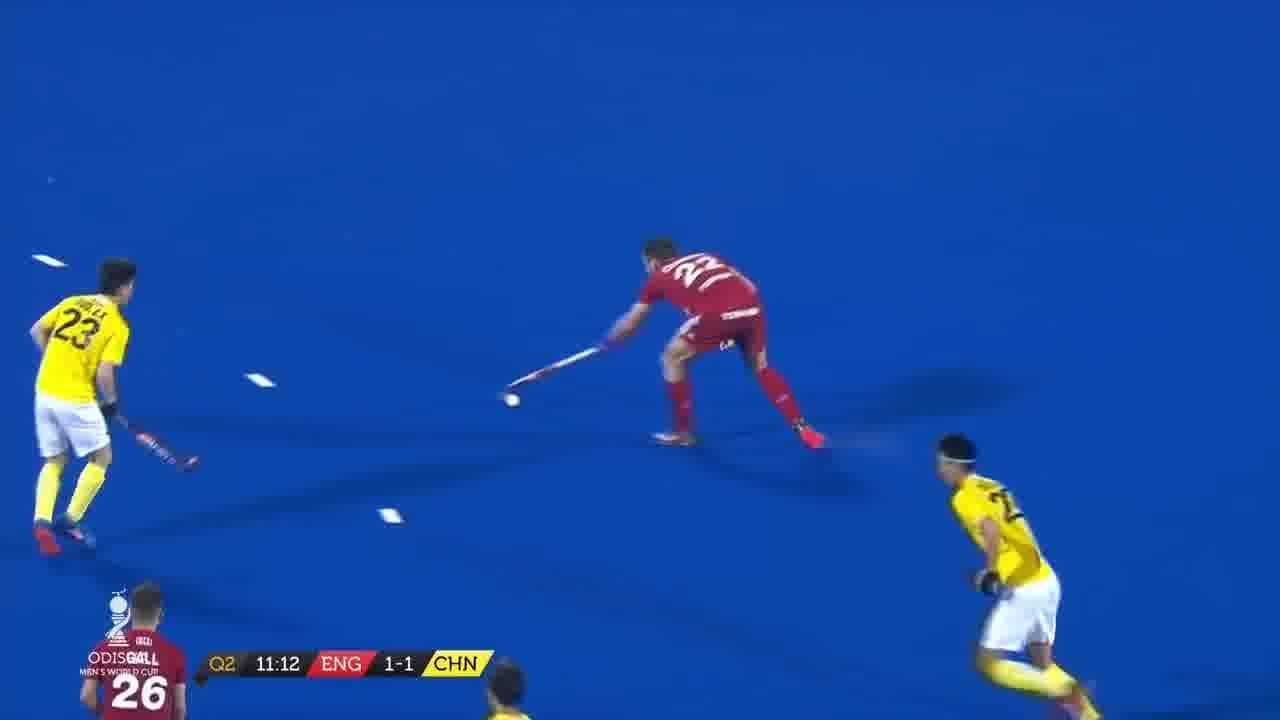ball: (490, 384, 533, 420)
